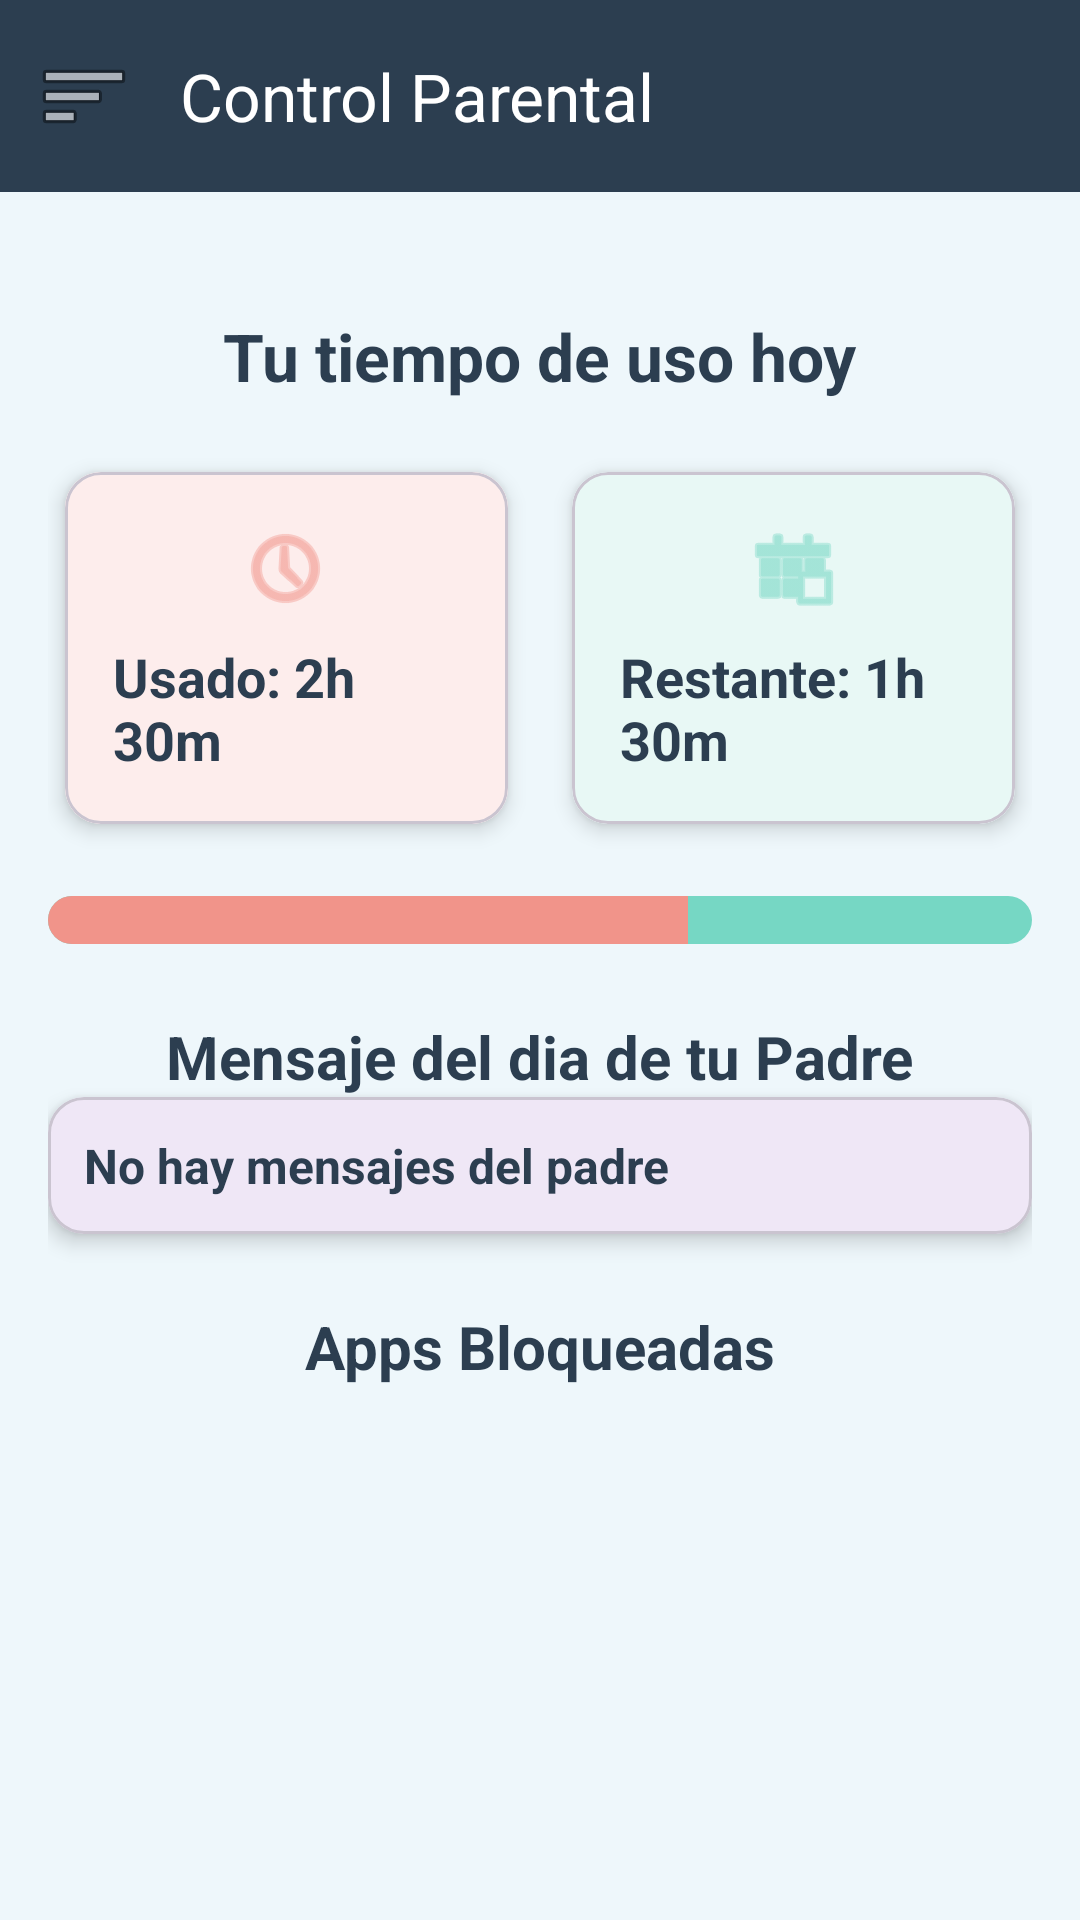

Point at icon controls on the screen. Image size 1080*1920, points as [x,y].
recent history: [285,568]
today: [794,569]
